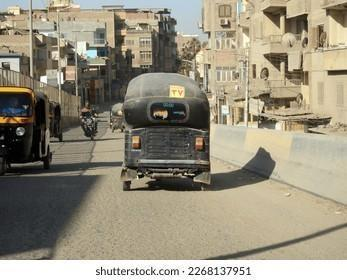keke: (117, 76, 216, 194), (0, 84, 48, 178)
